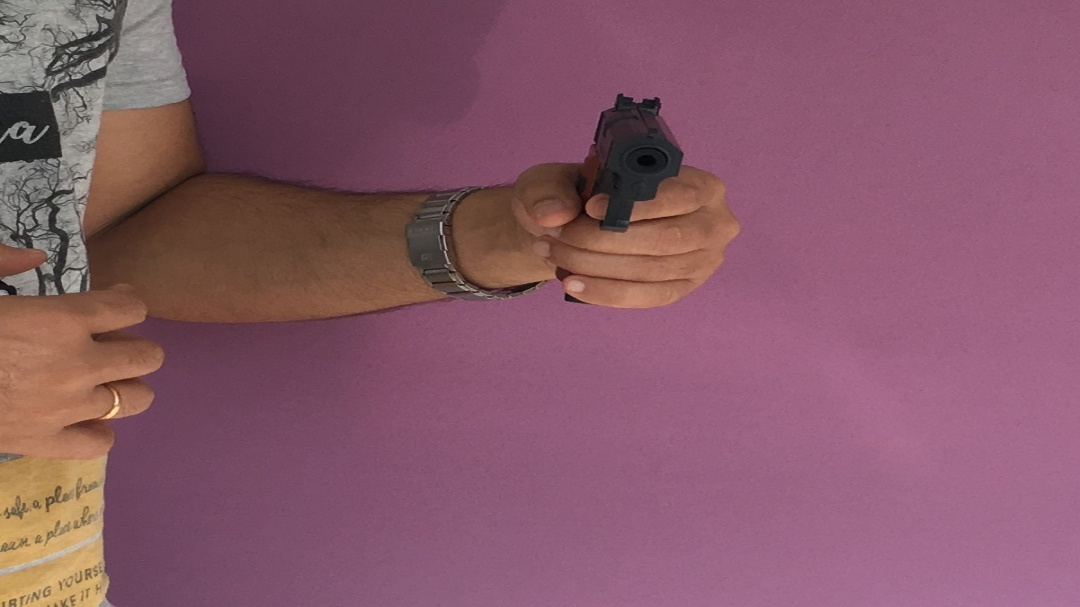gun: (581, 94, 687, 236)
